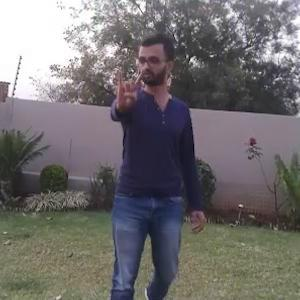takeoff-hand: (107, 67, 146, 110)
